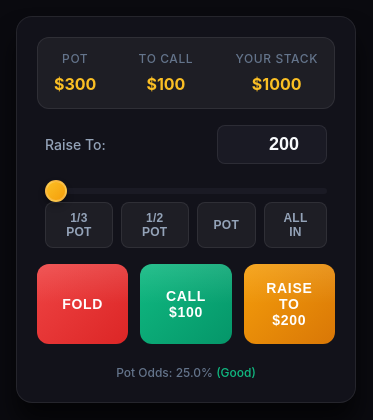
Test: BettingControls › Preset Betting Buttons › should set bet amount to full pot
Click the button with aria-label "Set bet to full pot" at (226, 225), box left=197, top=202, right=256, bottom=248
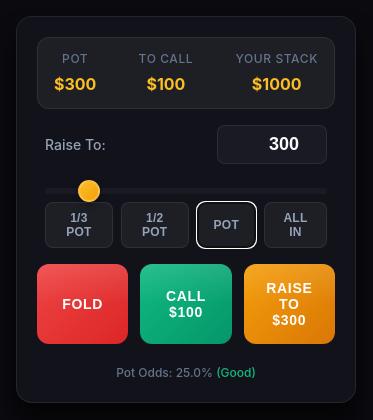
expect the number field holds "300": met, box left=217, top=125, right=327, bottom=164
